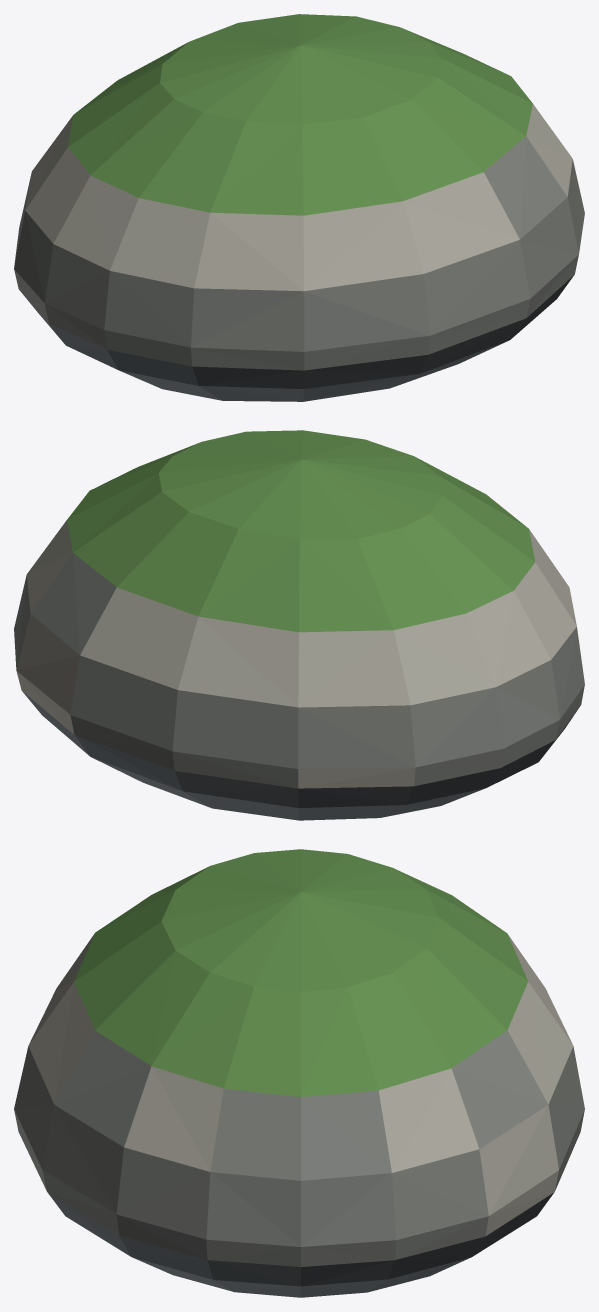
The model's file is BoulderFar.obj.
3 renders of one model, top to bottom at view 1: azimuth 30°, elevation 25°; view 2: azimuth 150°, elevation 25°; view 3: azimuth 270°, elevation 25°, orthographic. The views are drawn at different scales.
Size of the model in its own units: 4.38 by 2.55 by 3.82.
